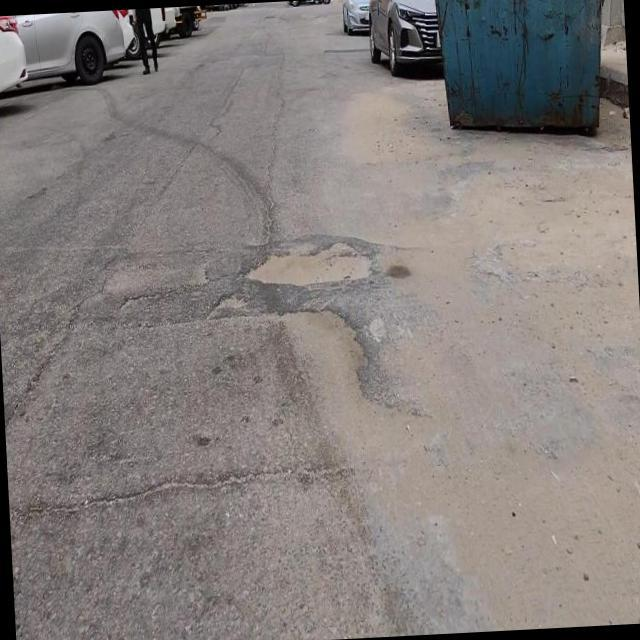Pothole: (246, 241, 372, 287)
